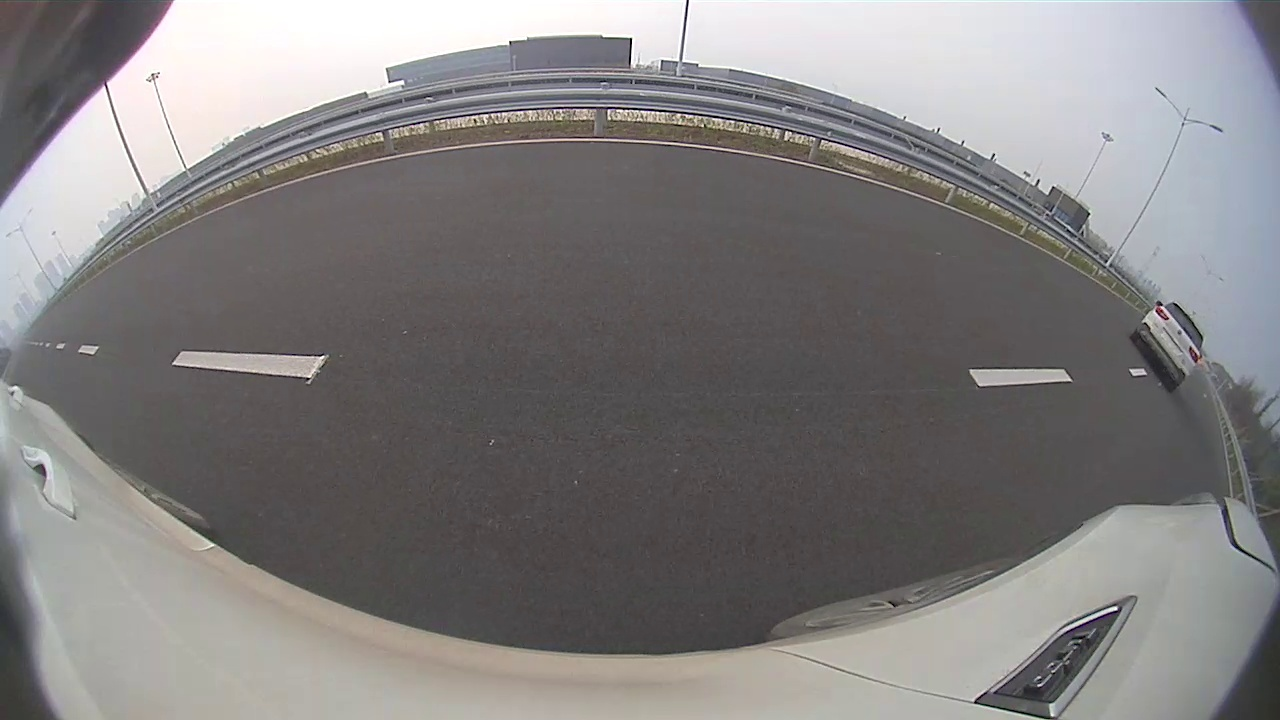car: (1130, 300, 1205, 391)
